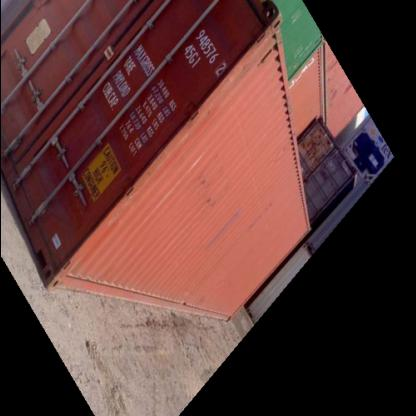Damage: (204, 214, 245, 251), (245, 200, 272, 232), (198, 167, 214, 216)
